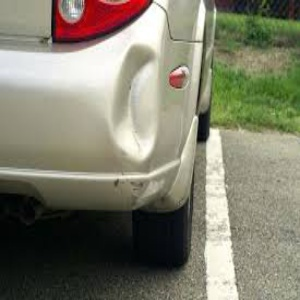bumper: (79, 39, 174, 217)
